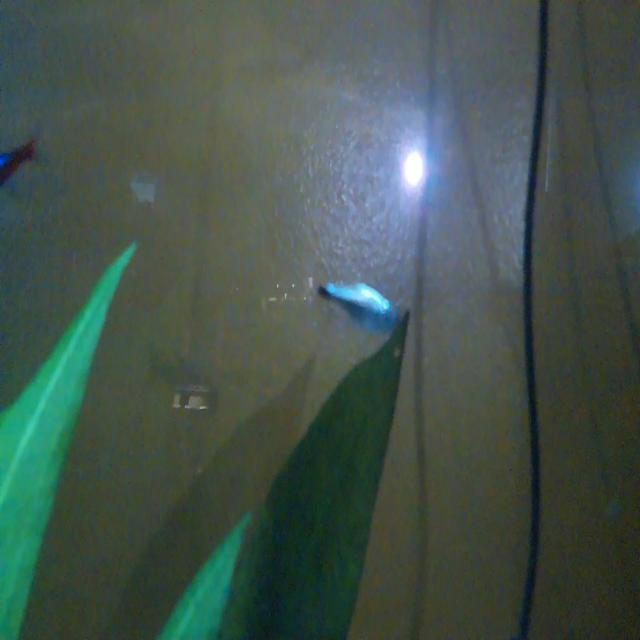fish: (313, 274, 400, 340)
